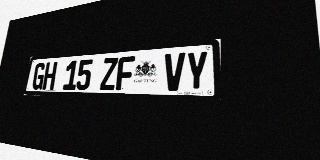1: (63, 60, 79, 90)
5: (76, 59, 93, 90)
F: (116, 56, 135, 90)
G: (31, 63, 46, 90)
H: (42, 62, 58, 90)
V: (163, 52, 185, 91)
Y: (185, 51, 208, 91)
Z: (100, 57, 118, 90)
